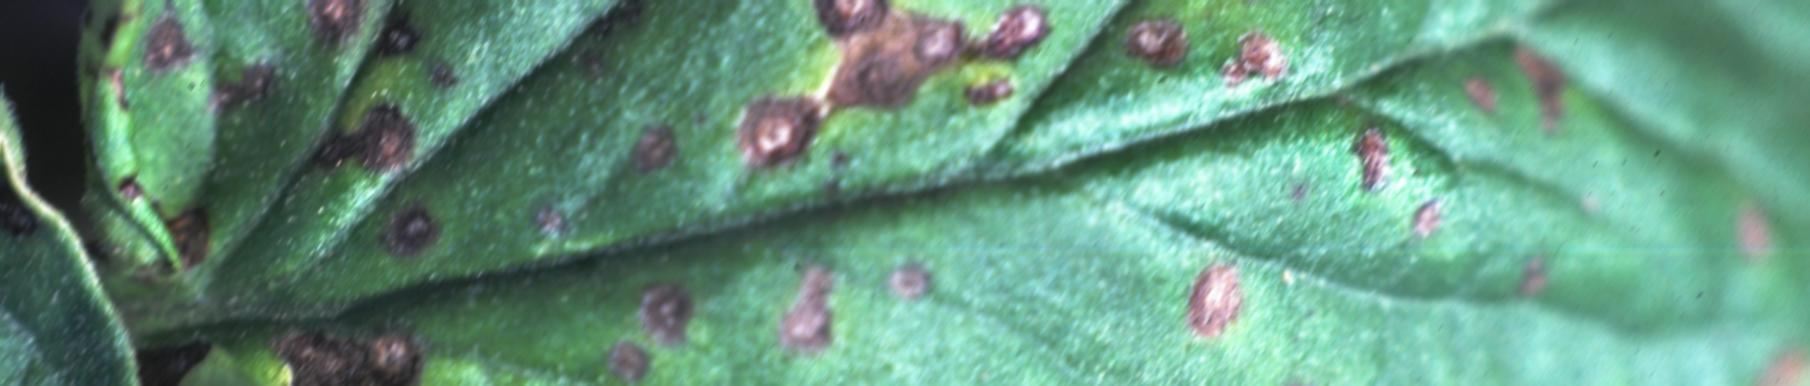Tomato Septoria leaf spot: (126, 0, 1810, 386)
